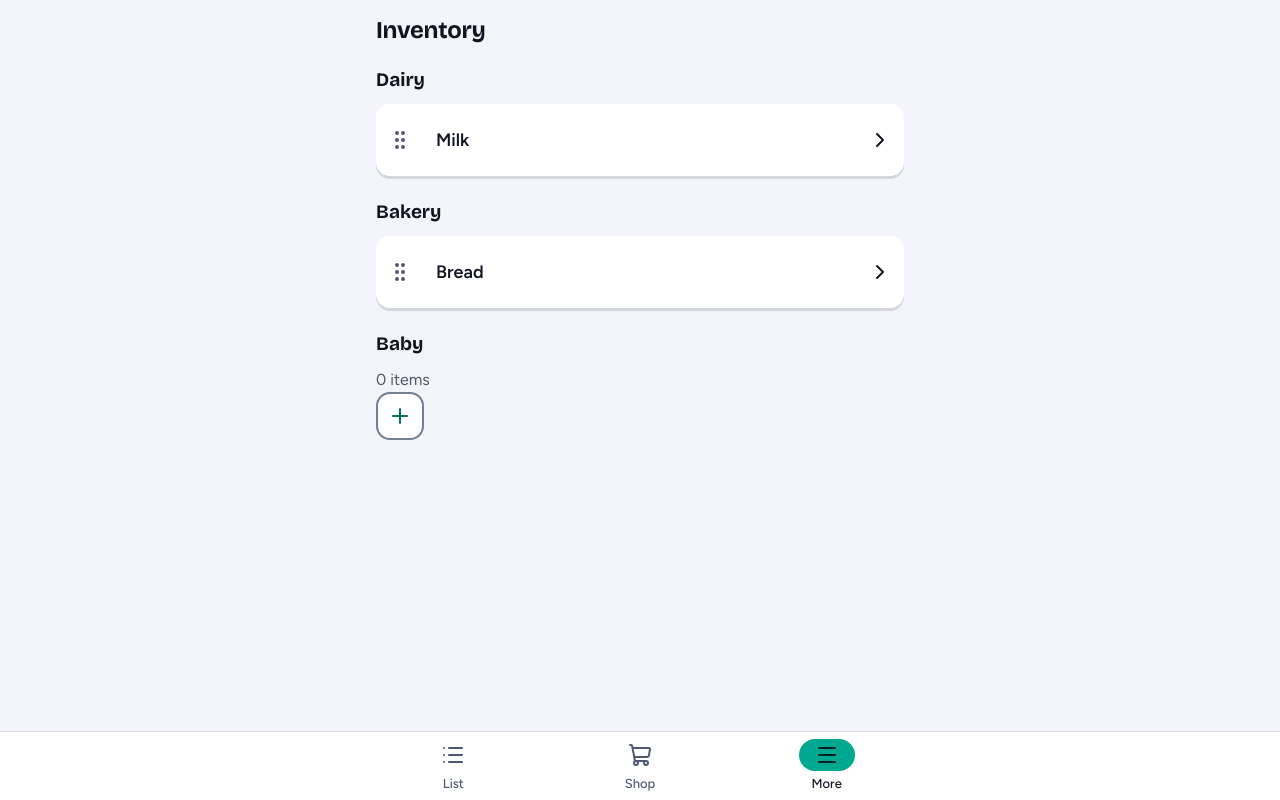
it: Adding a custom category on Inventory › creates nothing and says why for baby
Click the button named "Add Category" at (400, 416), box [376,392,424,440]
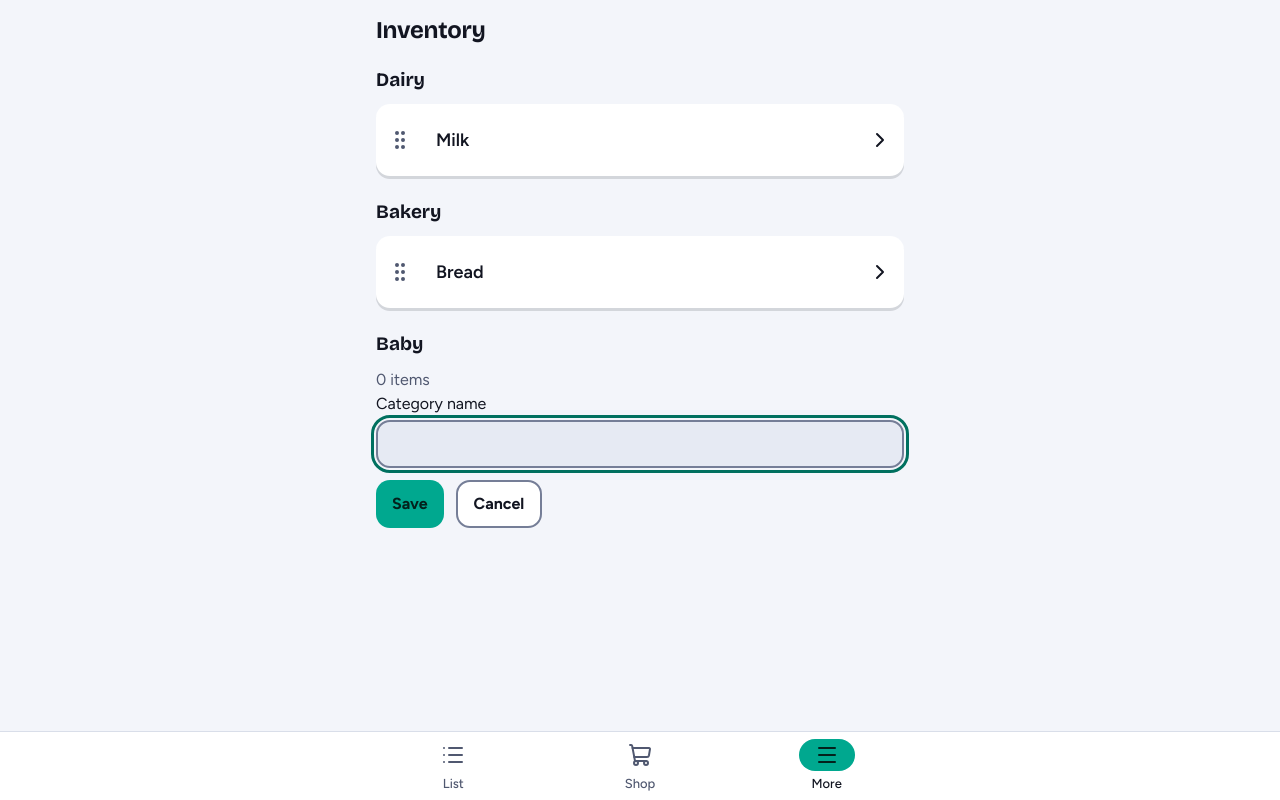
Type "baby" into the field labelled "Category name" at (640, 444), box [376,420,904,468]
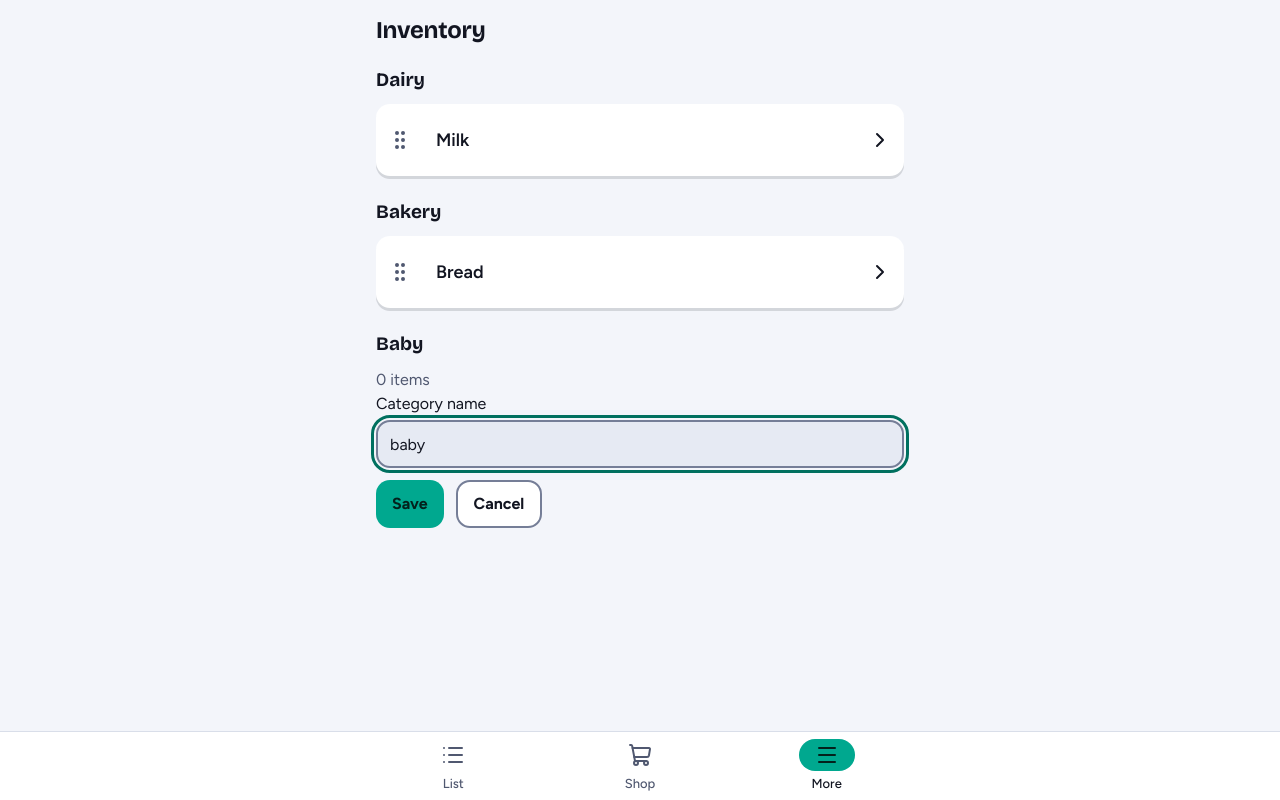
Click the button "Save" at (410, 504), box [376,480,444,528]
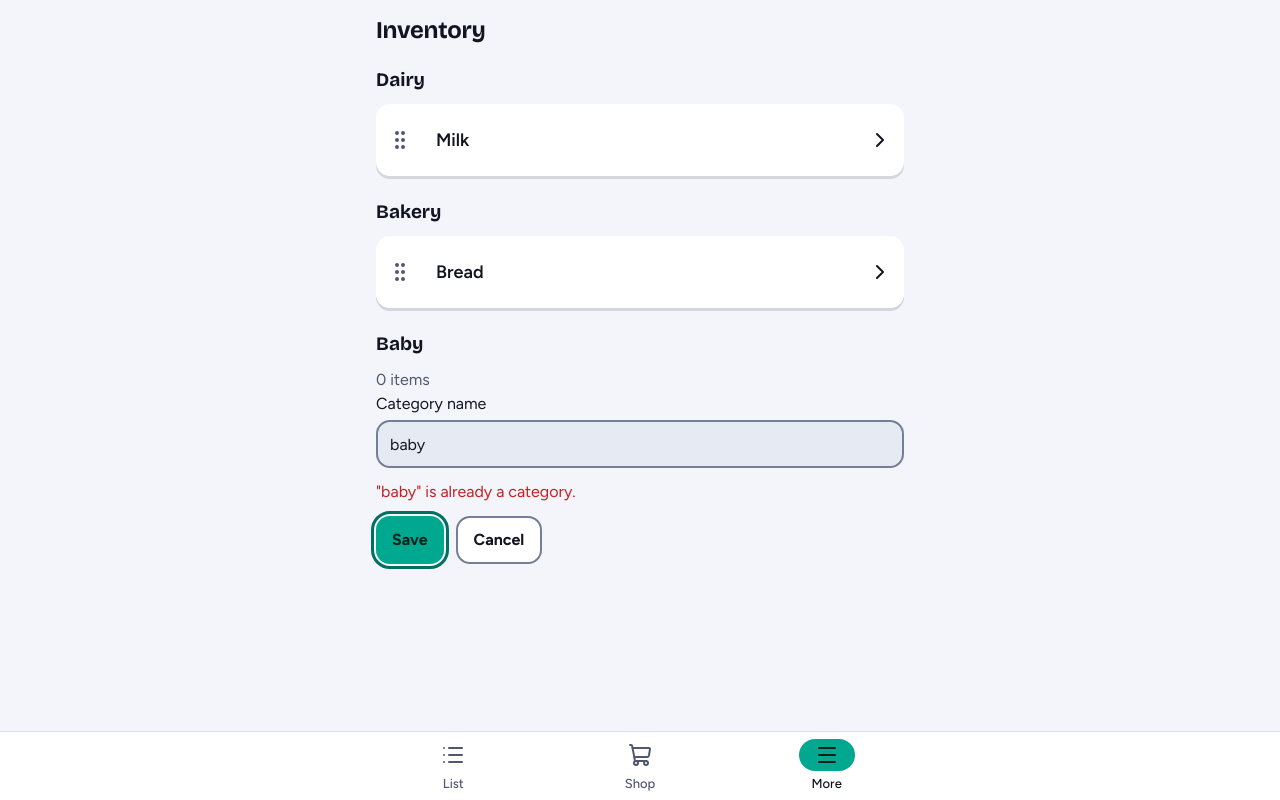
Expected: the message shows "already a category", [376,482,576,501]
